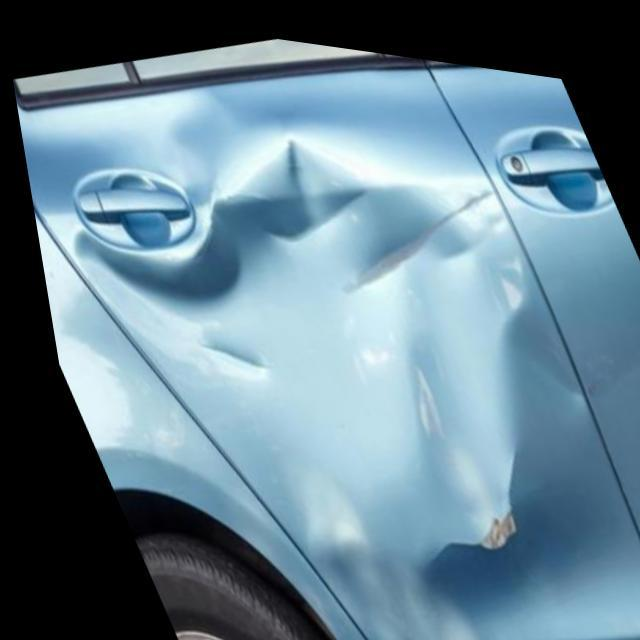dent: (51, 121, 536, 588)
